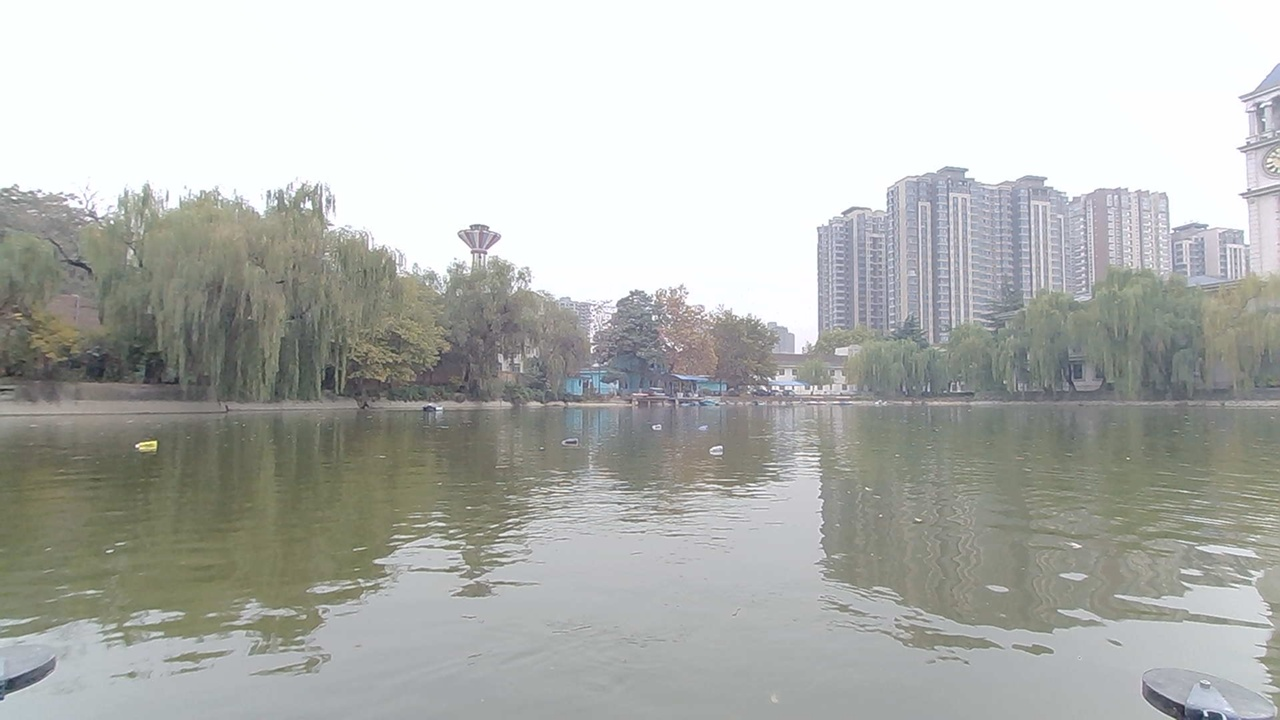bottle: (125, 426, 173, 458), (562, 426, 592, 448), (702, 438, 732, 459), (692, 408, 725, 425), (648, 415, 670, 434)
